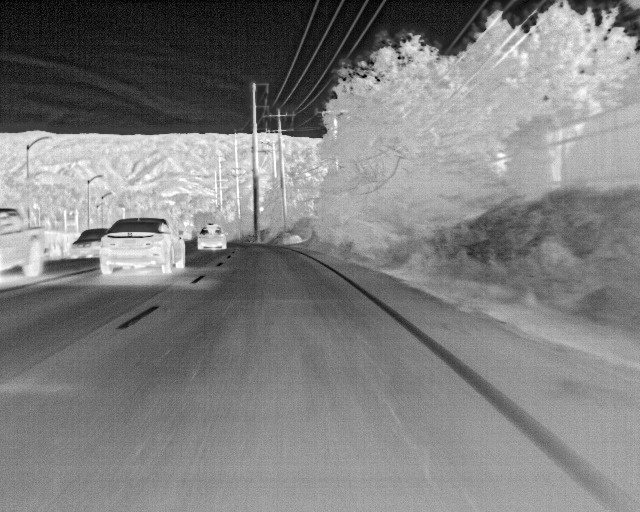vehicle: (100, 217, 188, 277), (1, 209, 50, 277), (70, 224, 111, 262), (197, 223, 228, 250)
